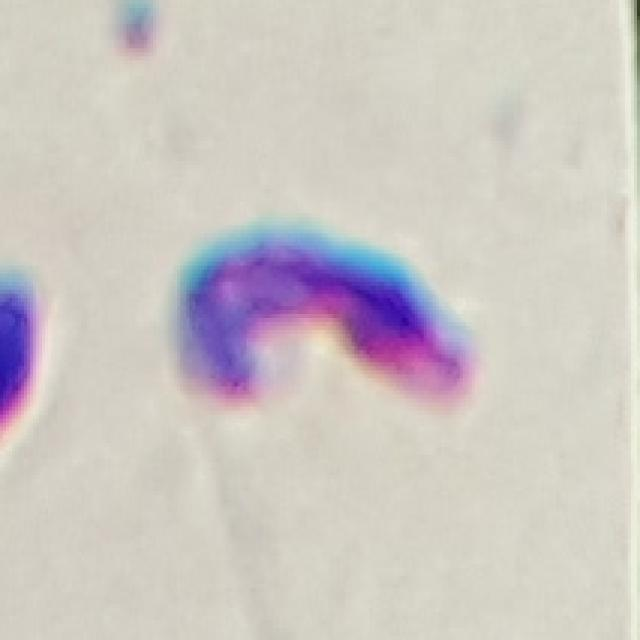non-sperm: (153, 228, 474, 417)
